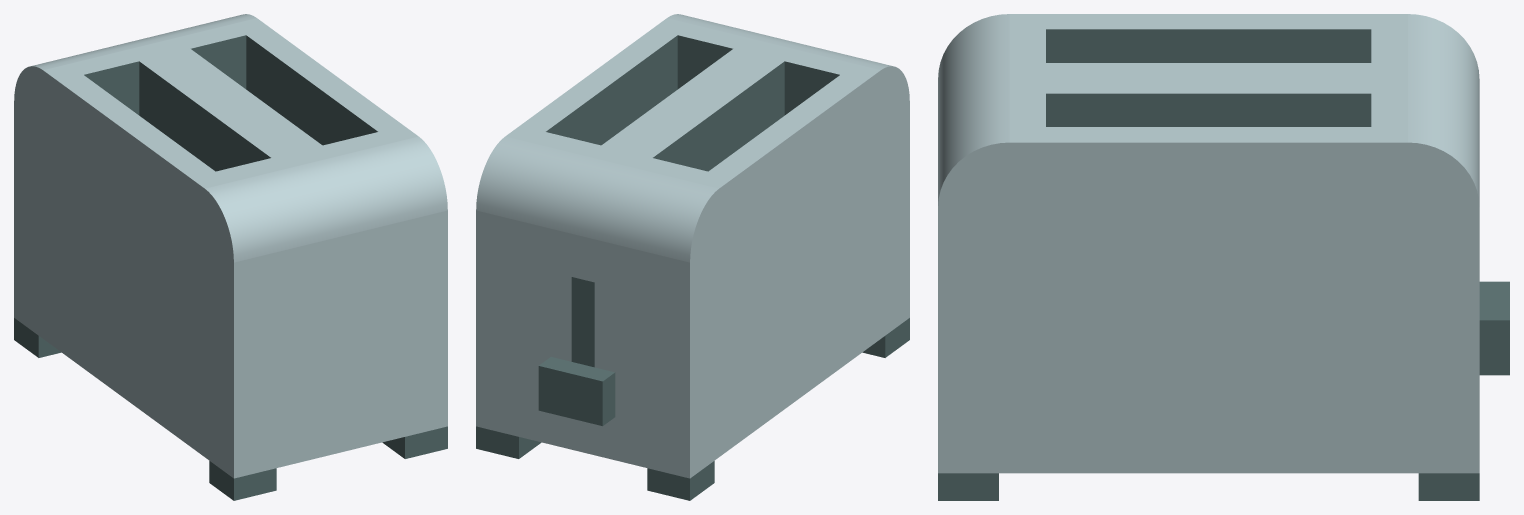
Rendered from Toster.fbx.
The picture shows the model from 3 angles, left to right: view 1: azimuth 30°, elevation 25°; view 2: azimuth 150°, elevation 25°; view 3: azimuth 270°, elevation 25°; orthographic projection. The views are drawn at different scales.
Visible parts, largest first — view 1: toaster; view 2: toaster; view 3: toaster.
Part boxes in pixels (x1,y1,x2,y2): toaster: (14, 14, 447, 500); toaster: (476, 14, 909, 500); toaster: (938, 14, 1509, 500).
Bounding box in the file's own units: 1 × 1.3 × 1.88.
